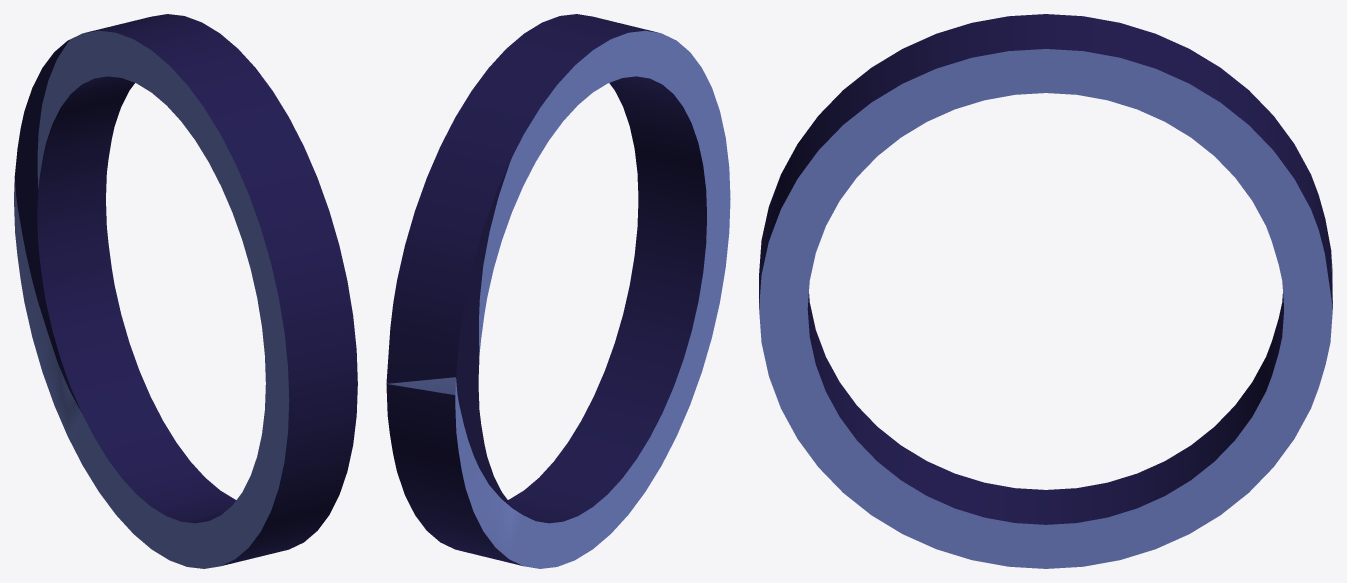
3 renders of one model, left to right at view 1: azimuth 30°, elevation 25°; view 2: azimuth 150°, elevation 25°; view 3: azimuth 270°, elevation 25°, orthographic. The views are drawn at different scales.
Visible parts, largest first — view 1: Object_4; view 2: Object_4; view 3: Object_4.
Boxes of the visible parts, bbox=[...] form: Object_4: bbox=[14, 14, 357, 568]; Object_4: bbox=[386, 14, 730, 568]; Object_4: bbox=[759, 14, 1332, 568].
Bounding box in the file's own units: 32.03 × 219 × 219.
